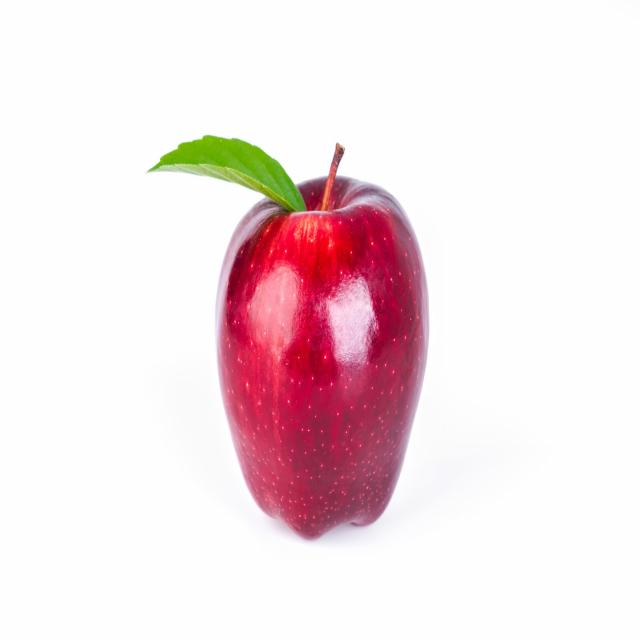Apple: (212, 136, 433, 540)
